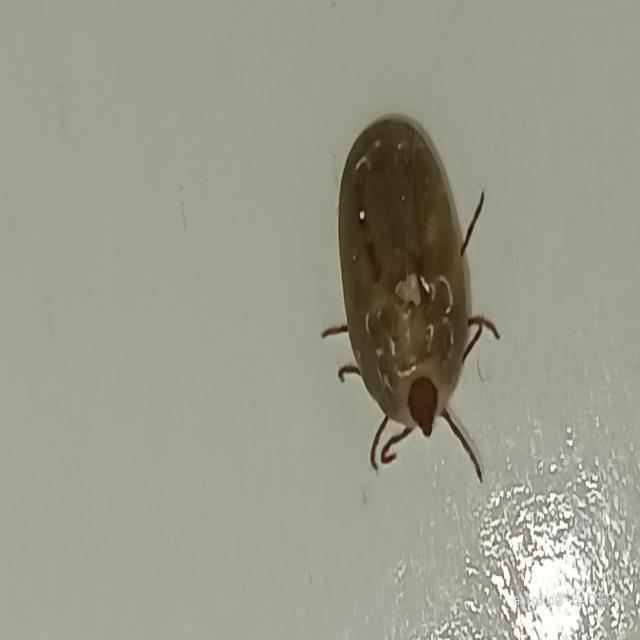Rhipicephalus Sanguineus-F-Fed: (321, 113, 500, 485)
